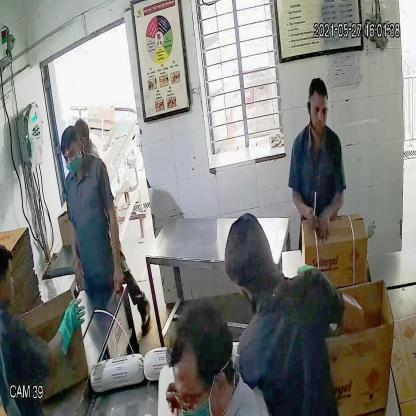no_goggles: (59, 143, 83, 168), (304, 98, 331, 120)
